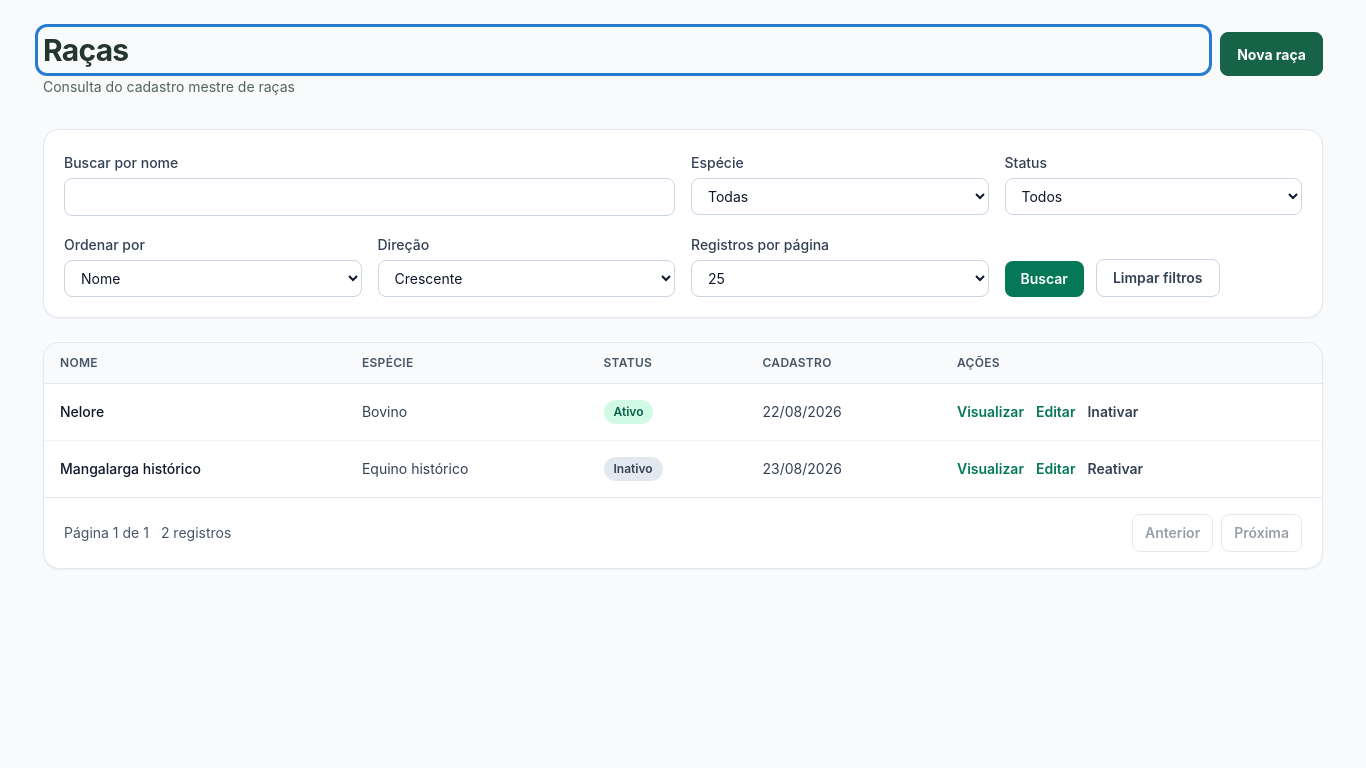
Test: BreedsListPage › reativa raça e apresenta erro de lifecycle sem perder a listagem
This screenshot has width=1366, height=768.
Expected: the text "Nelore" is shown, [44,384,346,440]
Click the button "Reativar" at (1115, 469), box [1087,459,1143,479]
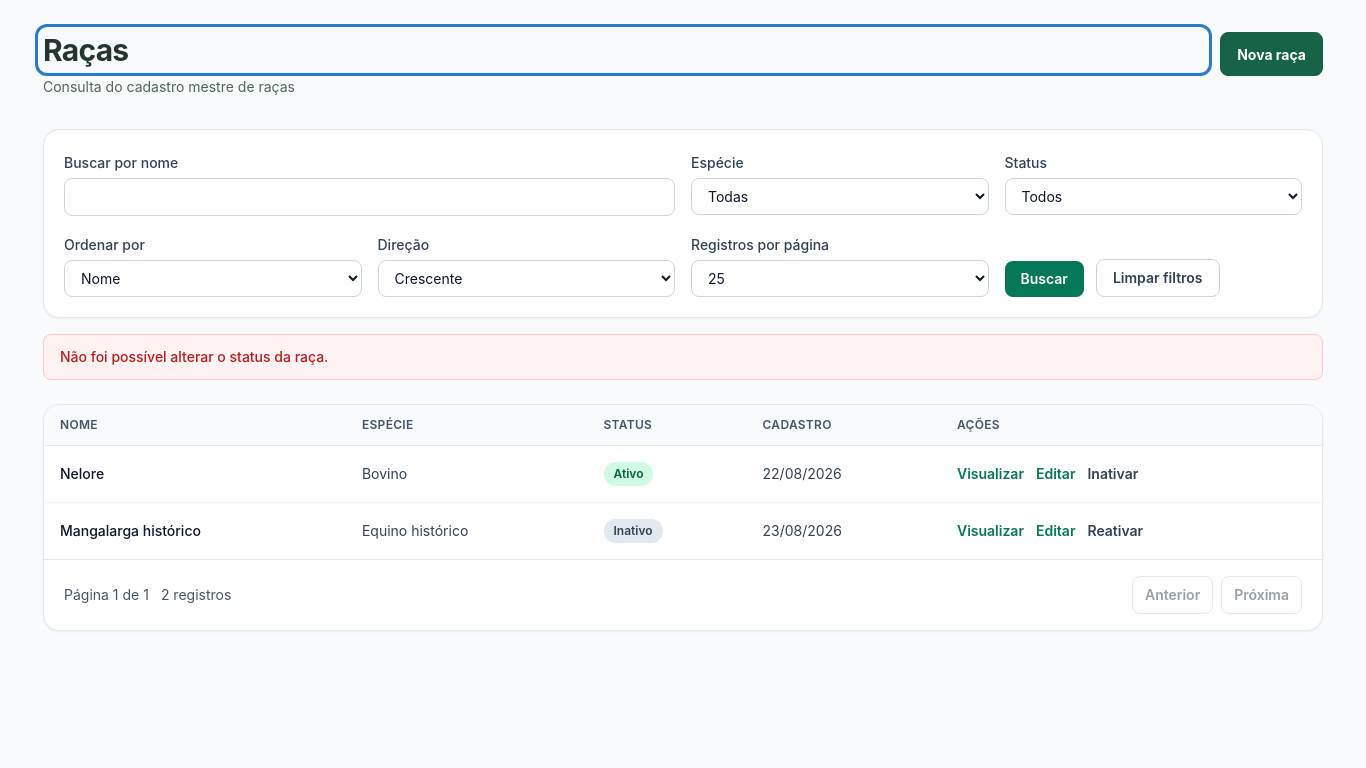
Expected: the text "Nelore" is shown, [44,446,346,502]
Expected: the message reads "Não foi possível alterar o status da raça.", [60,348,328,365]
